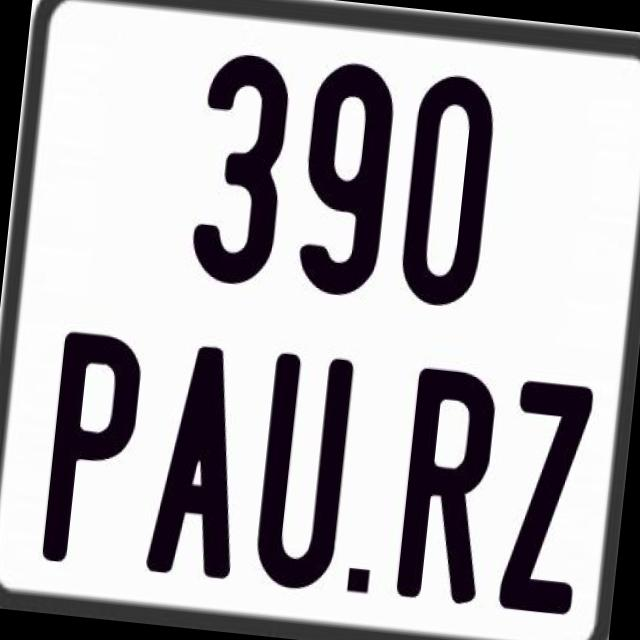0: (394, 70, 504, 318)
3: (184, 49, 294, 292)
9: (292, 59, 404, 308)
A: (141, 342, 251, 582)
P: (40, 325, 150, 565)
R: (394, 364, 500, 603)
U: (250, 352, 358, 596)
Z: (494, 376, 591, 613)
